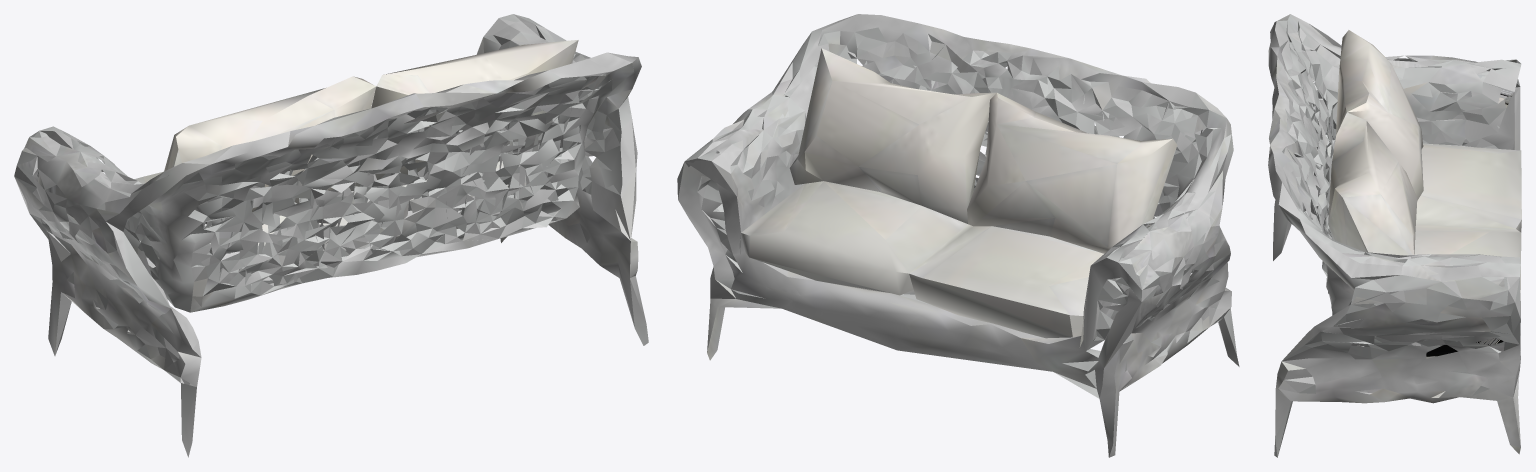
The model's file is mj-wicker-settee.lod1.glb.
3 views of the same model, side by side, from view 1: azimuth 30°, elevation 25°; view 2: azimuth 150°, elevation 25°; view 3: azimuth 270°, elevation 25° (orthographic). The views are drawn at different scales.
Parts seen in each view (by area): view 1: mj-wicker-settee; view 2: mj-wicker-settee; view 3: mj-wicker-settee.
Boxes of the visible parts, x1,y1,x2,y2 form: mj-wicker-settee: (14, 14, 648, 457); mj-wicker-settee: (677, 14, 1239, 457); mj-wicker-settee: (1268, 14, 1521, 457).
Bounding box in the file's own units: 1.55 × 0.8566 × 0.7414.
1 material, 1 textured.
